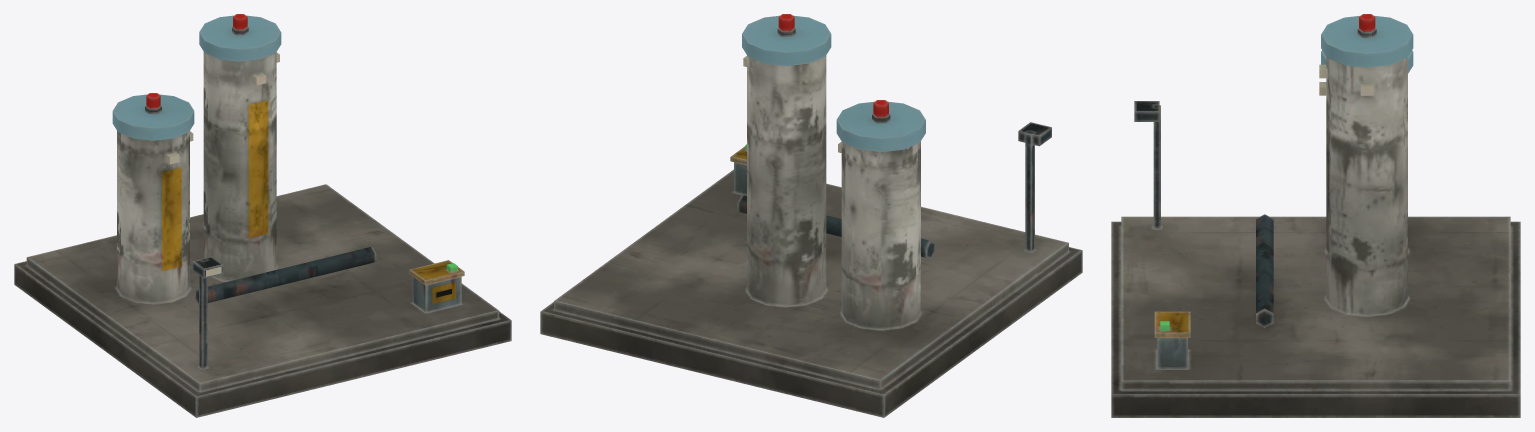
The model's file is water_synthesizer.glb.
3 views of the same model, side by side, from view 1: azimuth 30°, elevation 25°; view 2: azimuth 150°, elevation 25°; view 3: azimuth 270°, elevation 25° (orthographic). The views are drawn at different scales.
Parts seen in each view (by area): view 1: te_water_synthesizer; view 2: te_water_synthesizer; view 3: te_water_synthesizer.
Boxes of the visible parts, x1,y1,x2,y2 form: te_water_synthesizer: (14,14,511,417); te_water_synthesizer: (540,14,1082,417); te_water_synthesizer: (1111,14,1520,417).
Bounding box in the file's own units: 0.8 × 0.6776 × 0.8.
1 material, 1 textured.
